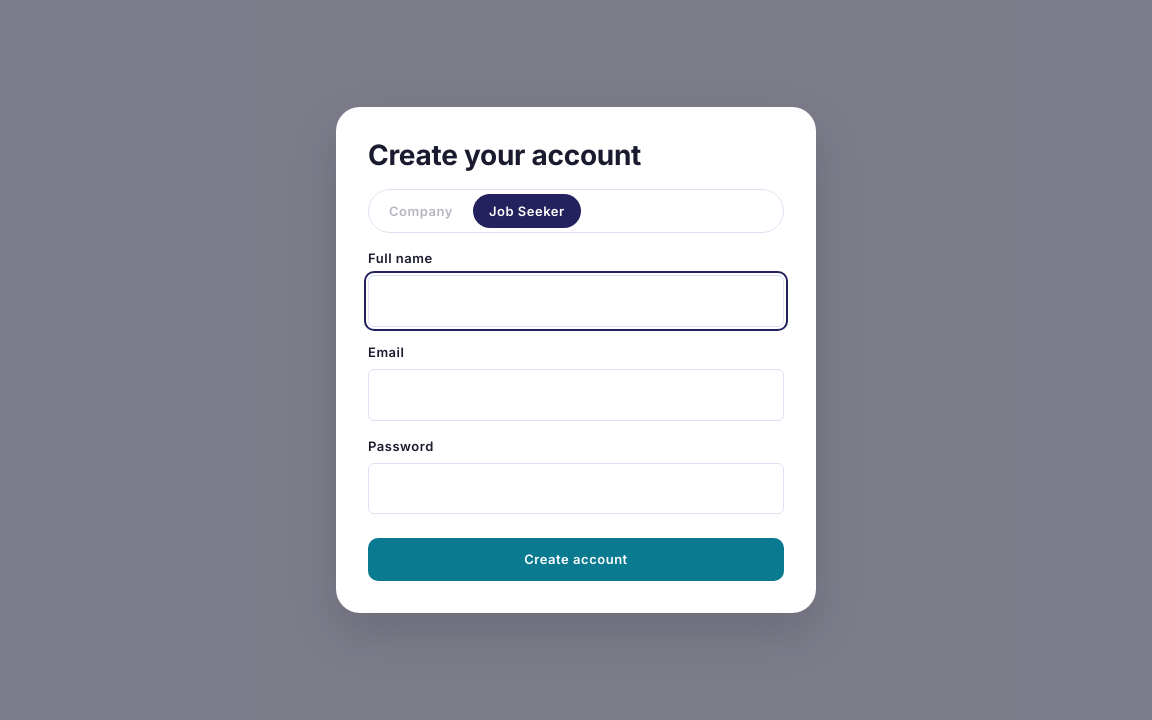
Test: ApplyGateModal › validates on blur, never per keystroke
In the field labelled "Email": (576, 395) [368, 369, 784, 421], type "not-an-email"
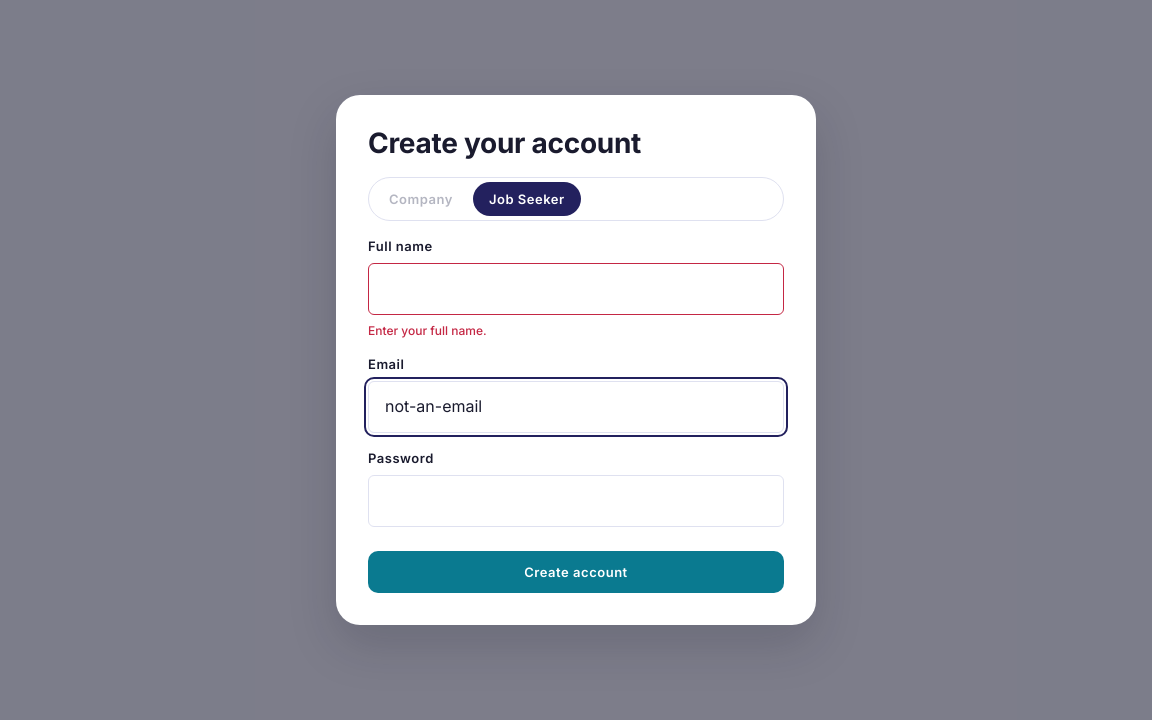
expect the text "Enter a valid email address." is not shown: met
Press Tab
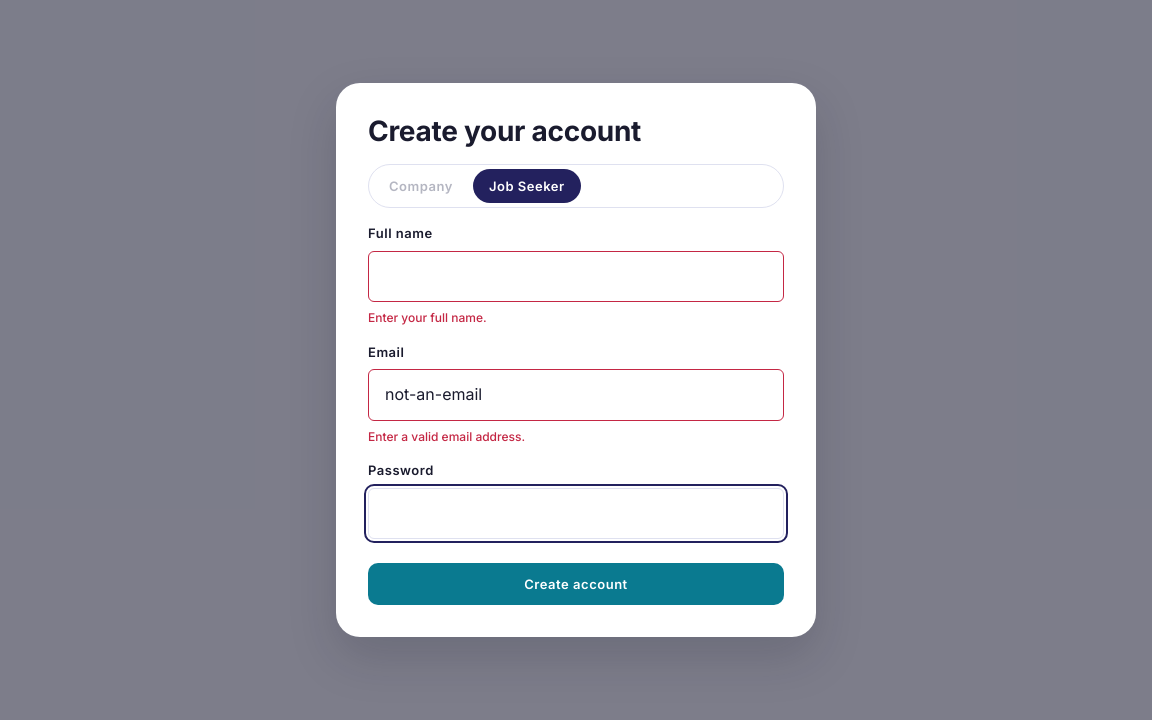
expect the text "Enter a valid email address." is shown: met, box [368, 429, 525, 444]
